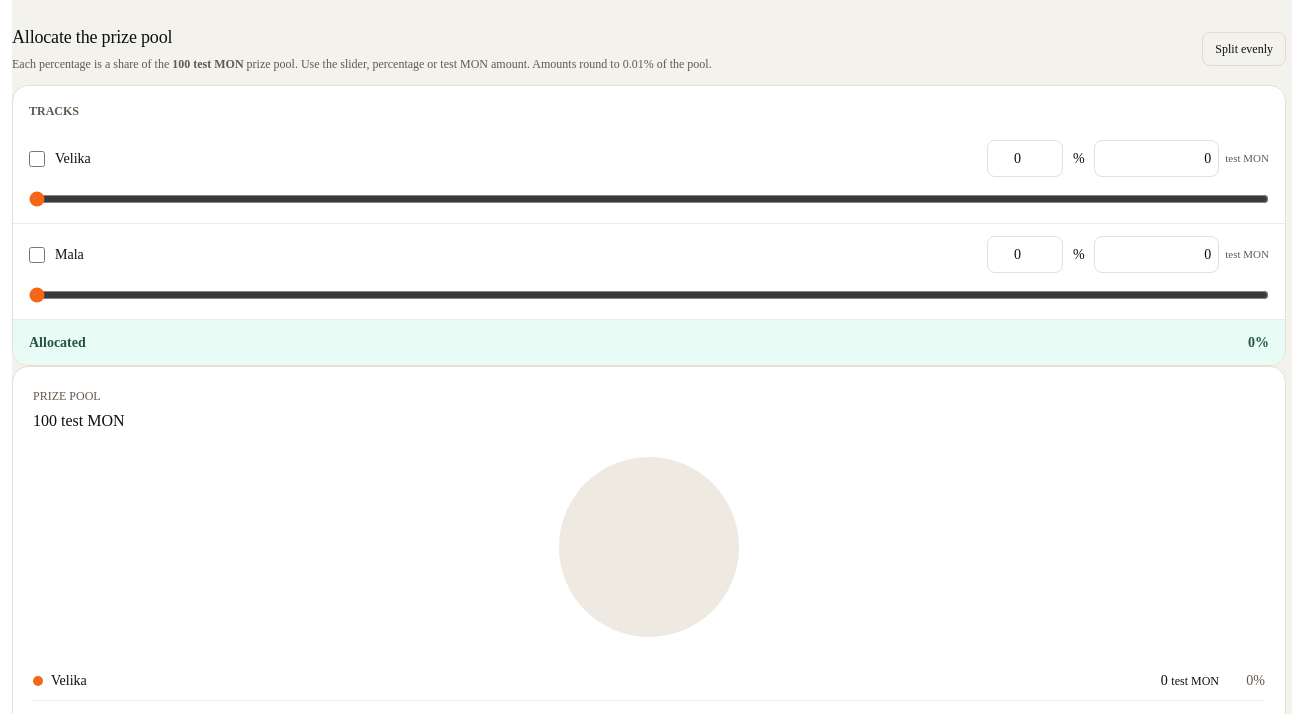
keeps Base44 track rows, amounts and summary synchronized through splitting and exclusion
Click the button "Split evenly" at coordinates (1244, 48), box [1202,32,1286,66]
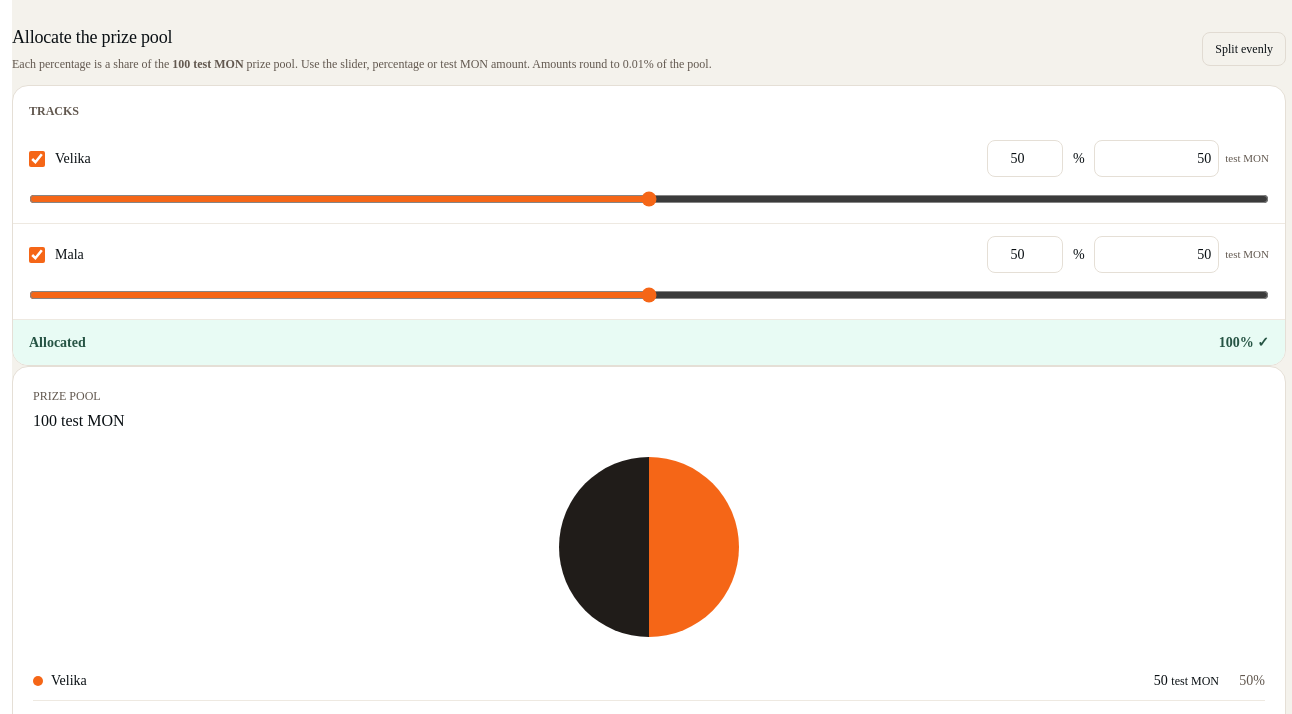
Expected: the number field named "Velika %" holds "50"
Expected: the number field named "Mala %" holds "50", [987,236,1063,273]
Replace the text in the number field named "Velika %" with "60" at coordinates (1025, 158), box [987,140,1063,177]
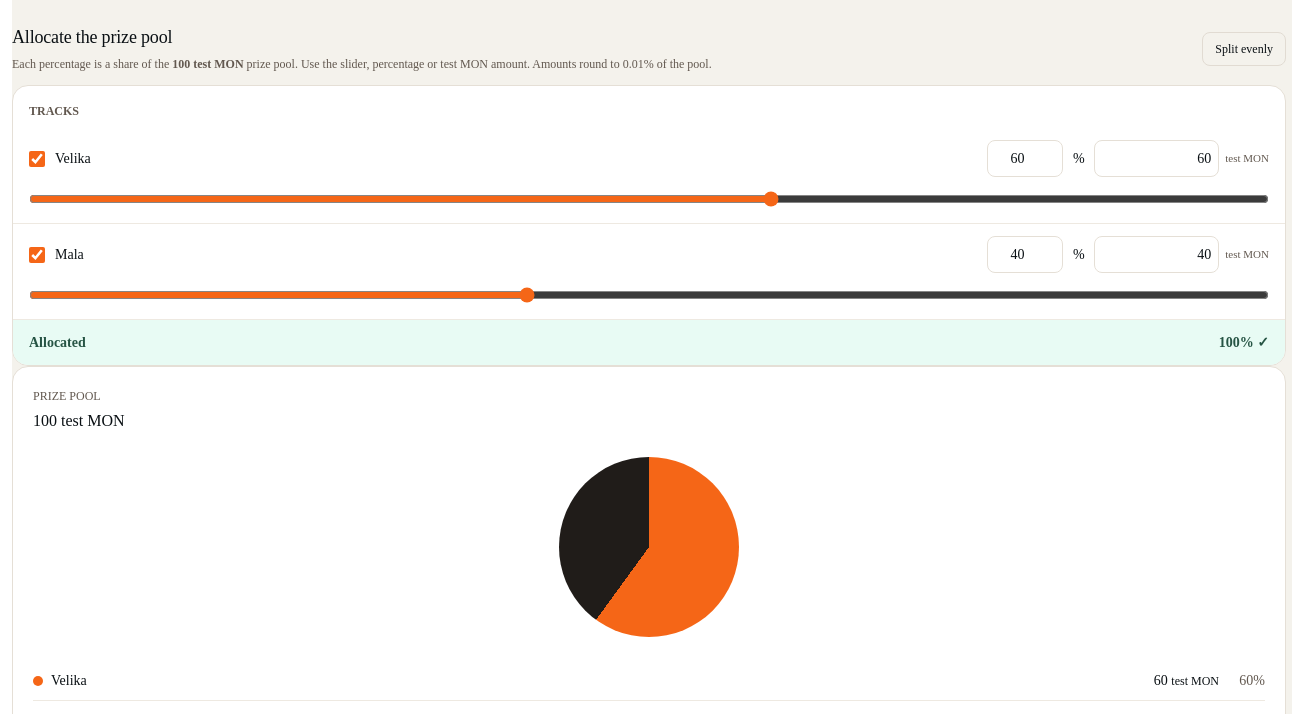
Expected: the number field named "Mala %" holds "40", [987,236,1063,273]
Expected: the text "60%" is shown, [1239,673,1265,688]
Click the checkbox labelled "Mala" at coordinates (37, 254), box [29,246,45,262]
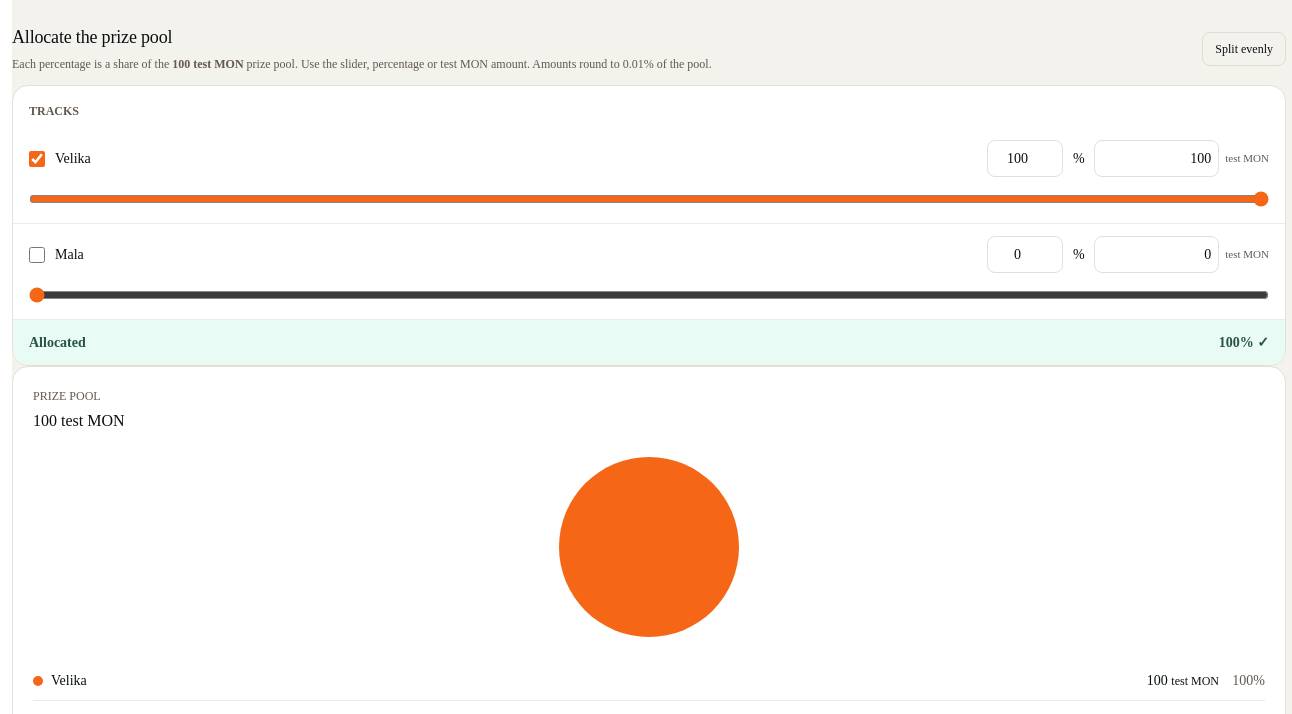
Expected: the number field named "Velika %" holds "100", [987,140,1063,177]
Expected: the number field named "Mala %" holds "0", [987,236,1063,273]
